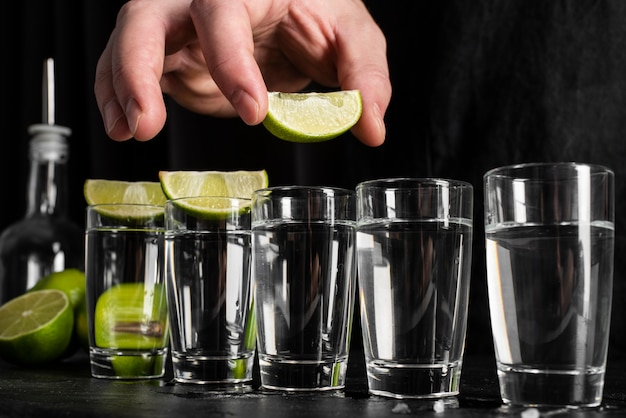alcohol: (479, 164, 619, 410), (352, 177, 475, 400), (252, 187, 359, 394), (165, 199, 257, 395), (87, 204, 178, 380)
